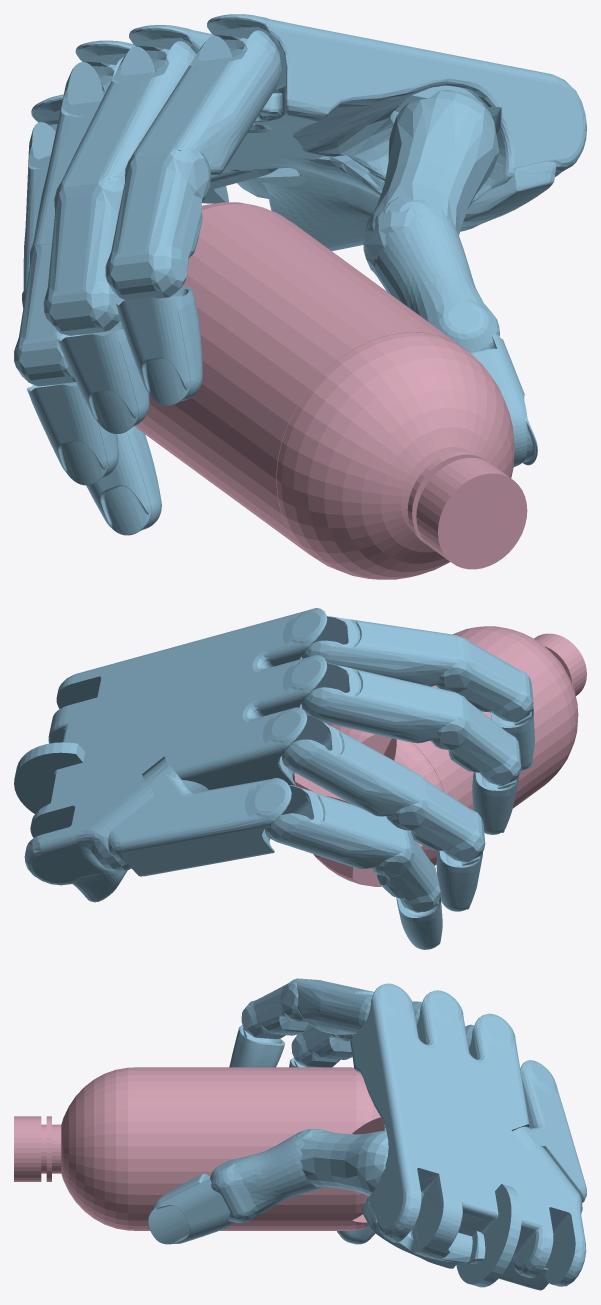
3 renders of one model, top to bottom at view 1: azimuth 30°, elevation 25°; view 2: azimuth 150°, elevation 25°; view 3: azimuth 270°, elevation 25°, orthographic. The views are drawn at different scales.
Parts seen in each view (by area): view 1: world; view 2: world; view 3: world.
Part boxes in pixels (x1,y1,x2,y2): world: (14,14,586,579); world: (14,608,586,949); world: (14,978,586,1290).
Size of the model in its own units: 0.1619 by 0.1211 by 0.211.
